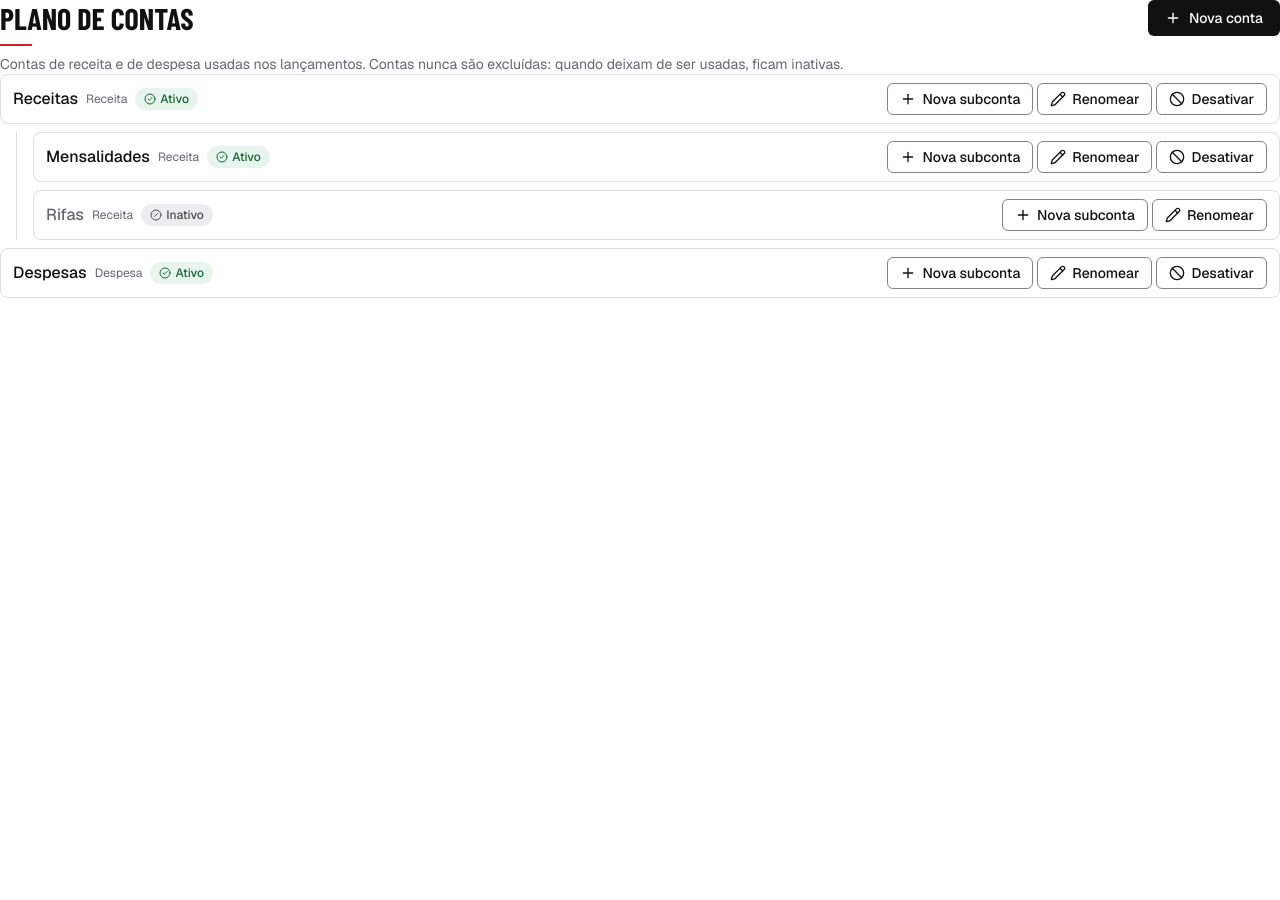
Scenario: criar conta › 404 conta_nao_encontrada mostra a mensagem e não altera a árvore
The width and height of the screenshot is (1280, 900).
expect the heading "Plano de contas" is shown: met, box [0,0,194,46]
expect the text "Receitas" is shown: met, box [13,87,78,111]
Click the button with aria-label "Nova subconta em Receitas".
click(960, 99)  # box [888,83,1033,115]
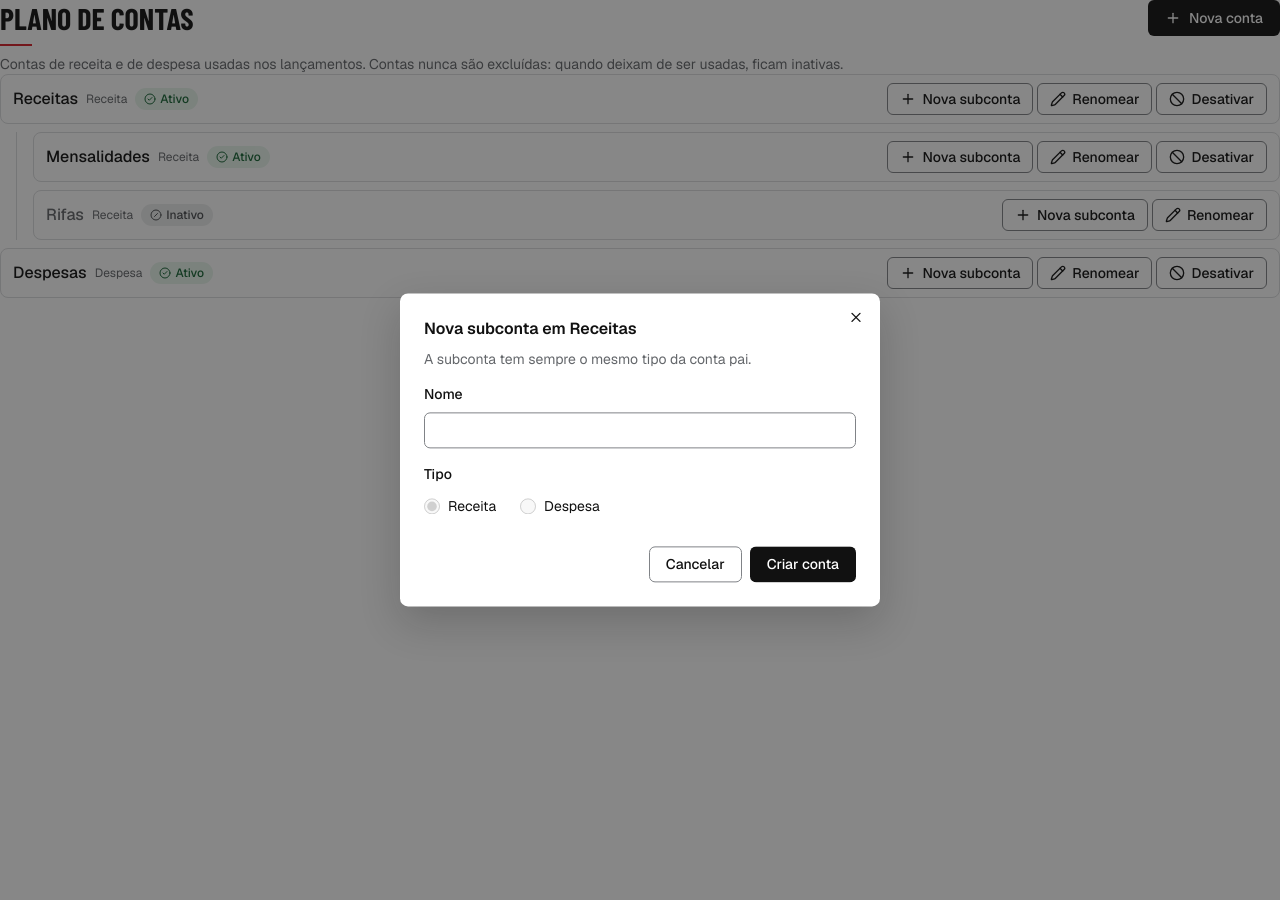
Type "Bilheteria" into the field labelled "Nome".
click(640, 431); type("Bilheteria")  # box [424,413,856,449]
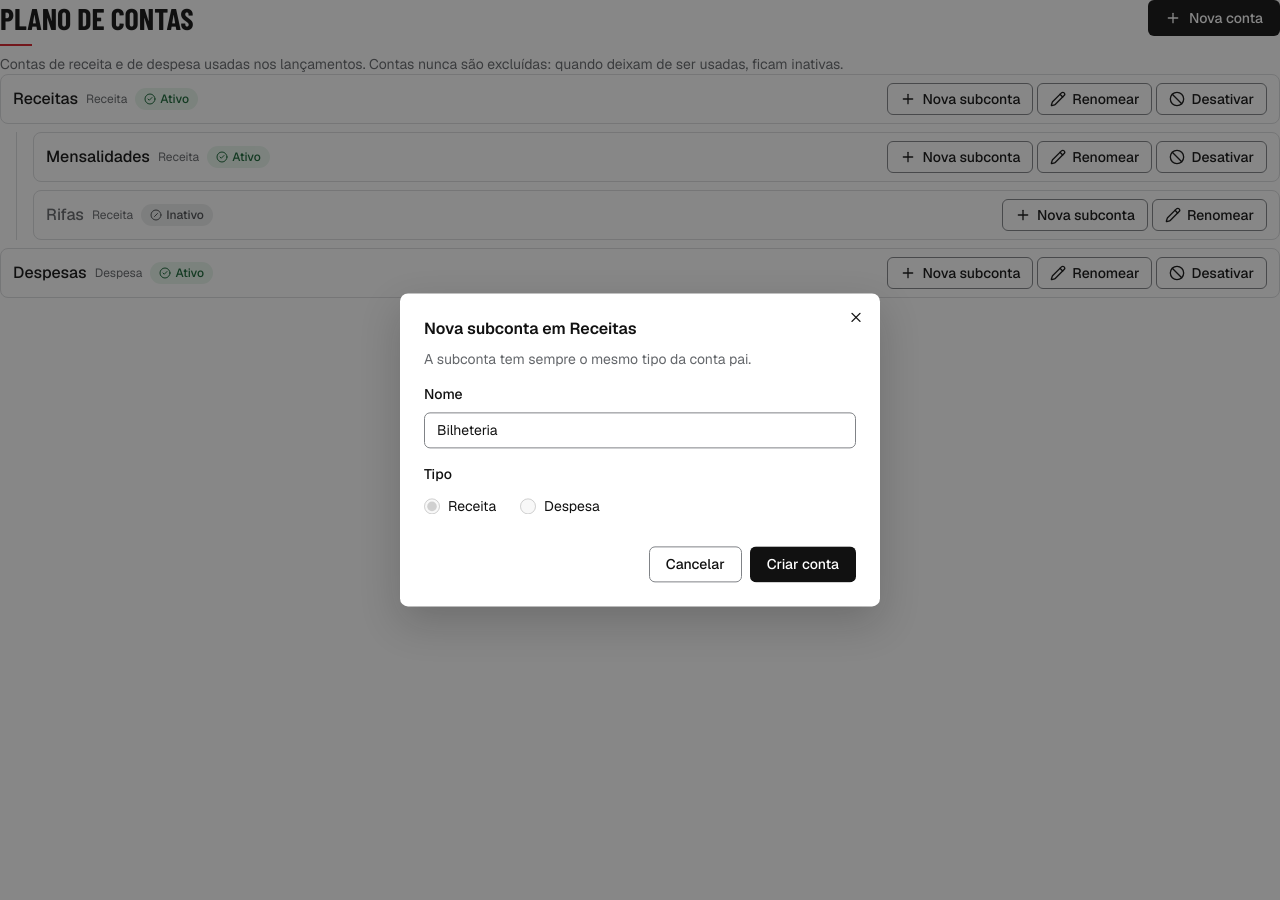
Click the button "Criar conta".
click(803, 565)  # box [750,547,856,583]
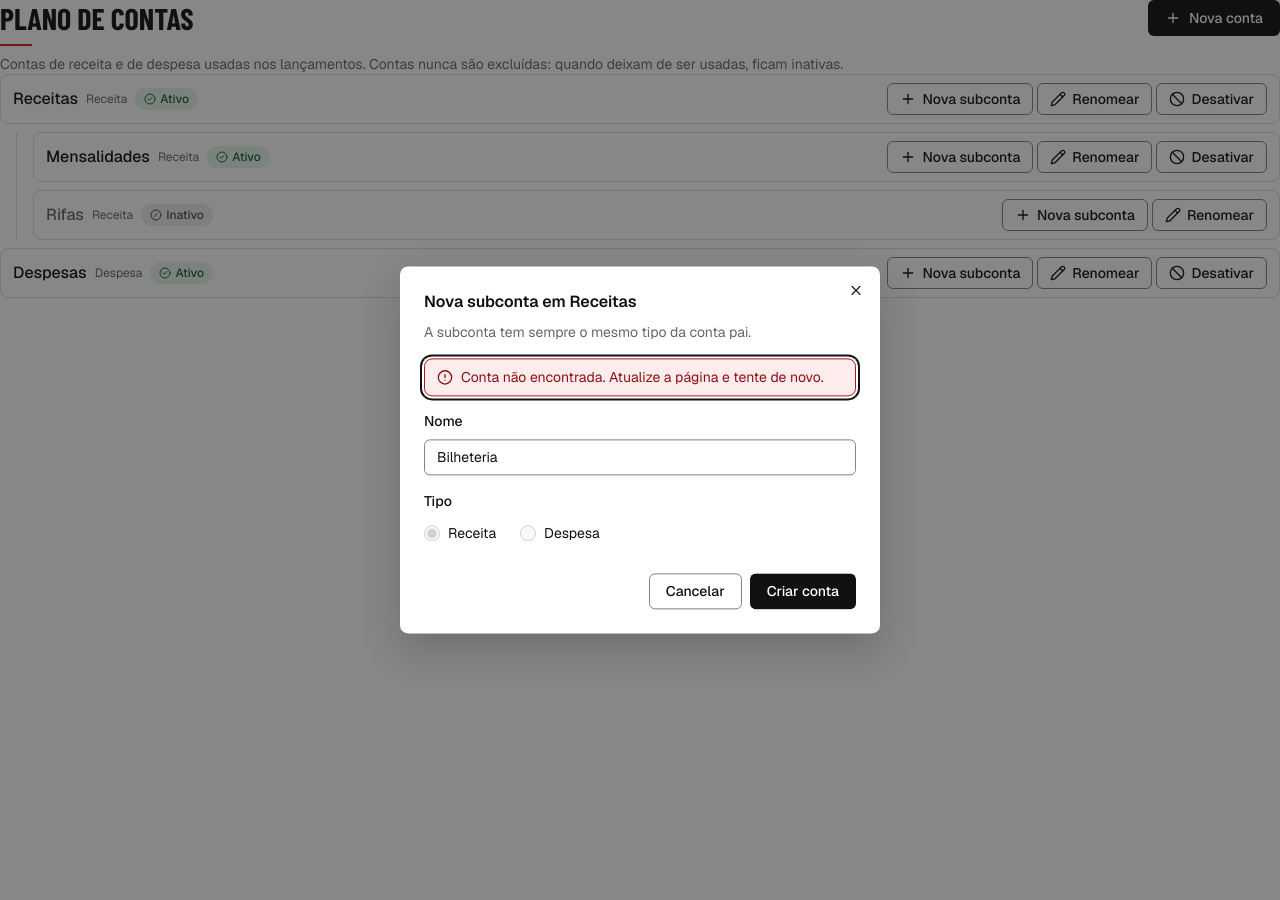
expect the text "Conta não encontrada. Atualize a página e tente de novo." is shown: met, box [461,367,843,387]
